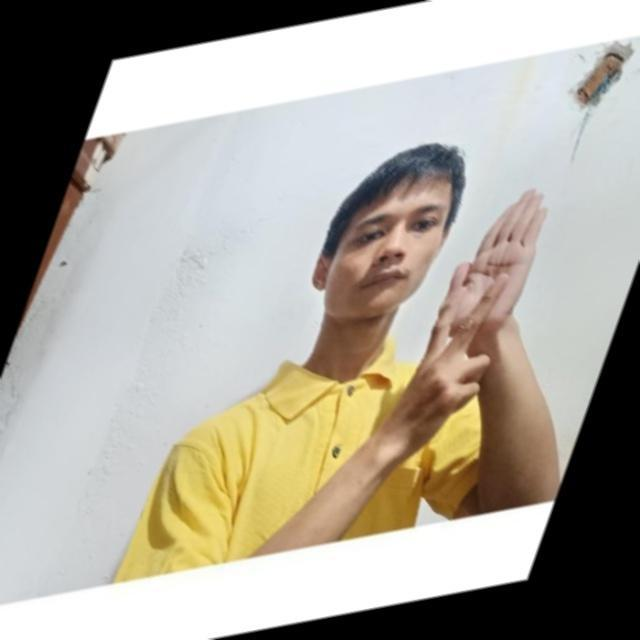N: (404, 180, 555, 359)
